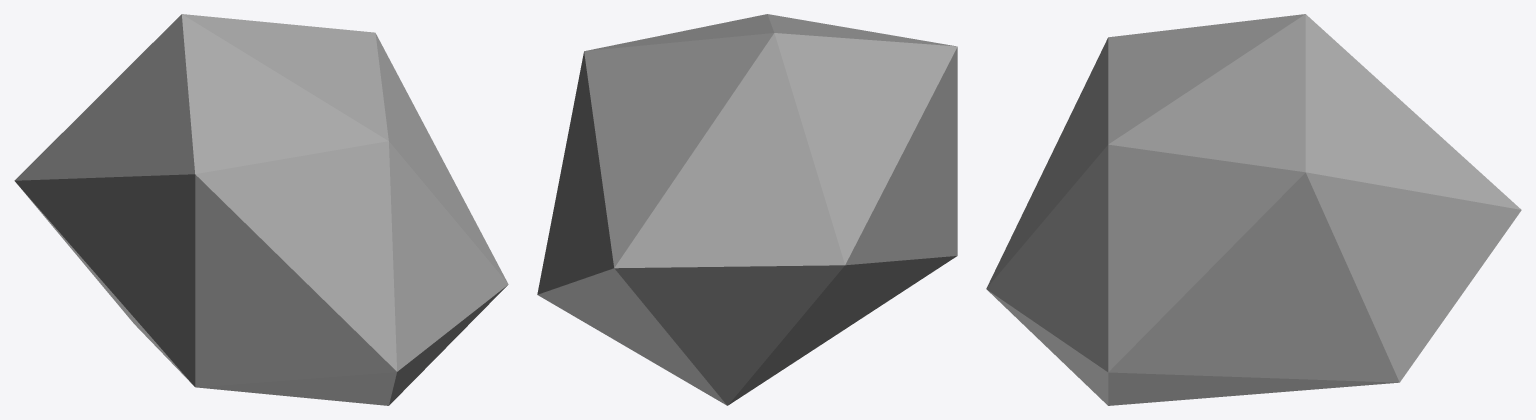
The model's file is Isl_7_Stone_1.fbx.
The picture shows the model from 3 angles, left to right: view 1: azimuth 30°, elevation 25°; view 2: azimuth 150°, elevation 25°; view 3: azimuth 270°, elevation 25°; orthographic projection.
Visible parts, largest first — view 1: Isl_7_Stone_1; view 2: Isl_7_Stone_1; view 3: Isl_7_Stone_1.
Part boxes in pixels (left/top/right/bottom): Isl_7_Stone_1: left=14, top=14, right=508, bottom=405; Isl_7_Stone_1: left=537, top=14, right=957, bottom=405; Isl_7_Stone_1: left=986, top=14, right=1521, bottom=405.
Size of the model in its own units: 152 by 206 by 144.
Materials: 1 (1 with a texture image).
